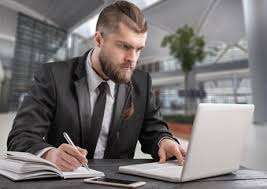white_male: (95, 28, 151, 83)
